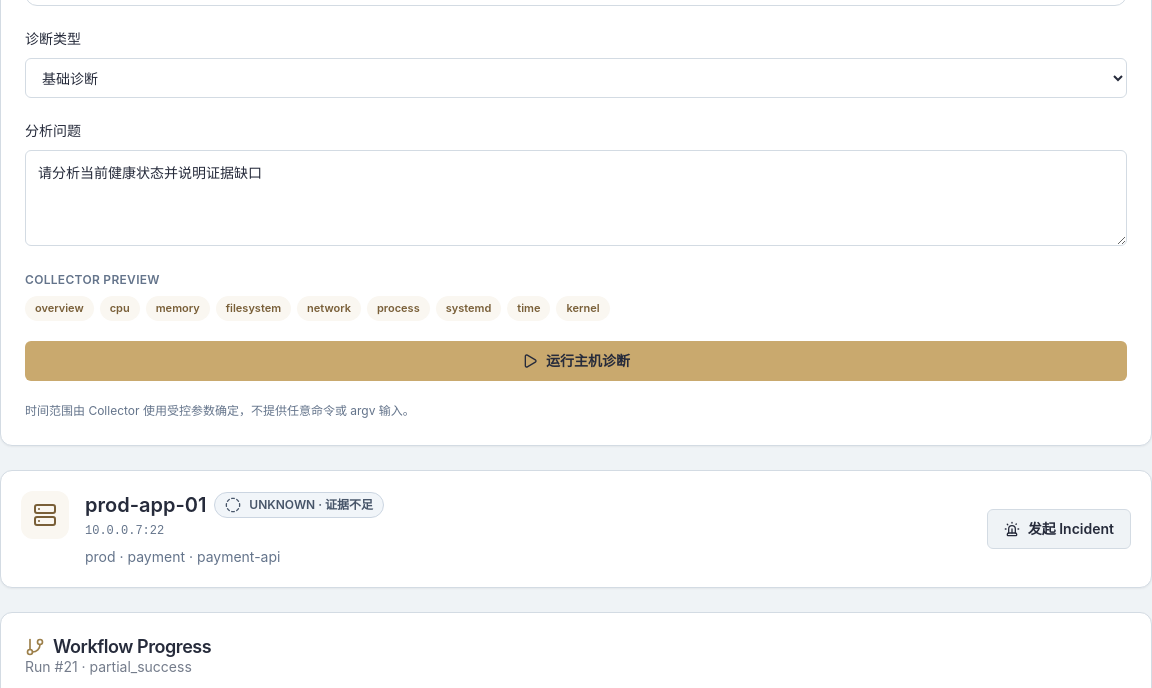
LinuxAnalysisPage › opens Health after a successful run and understands real agent output
(page scrolled)
Click the button "运行主机诊断" at [576, 360], box [25,340,1127,380]
(page scrolled)
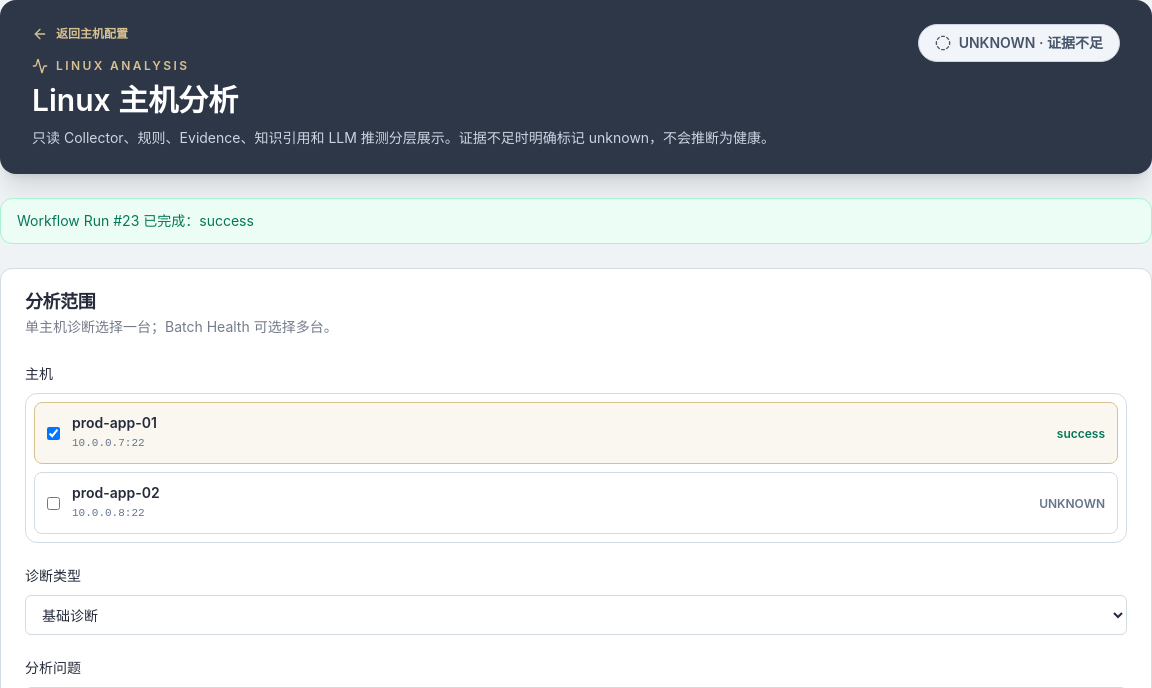
Expected: the text "Workflow Run #23 已完成：success" is shown, [0,198,1151,244]
